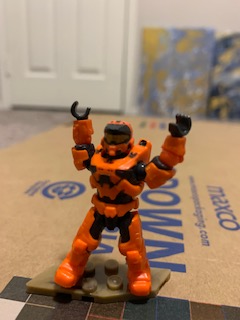spartan: (54, 99, 191, 298)
up: (68, 97, 192, 199)
